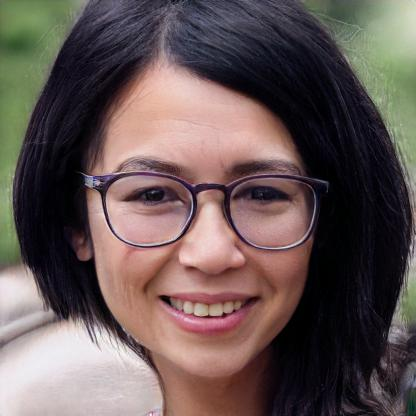glasses: (92, 163, 322, 257)
